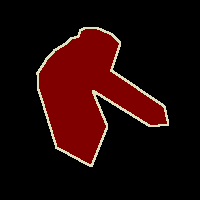tie: (37, 27, 168, 166)
